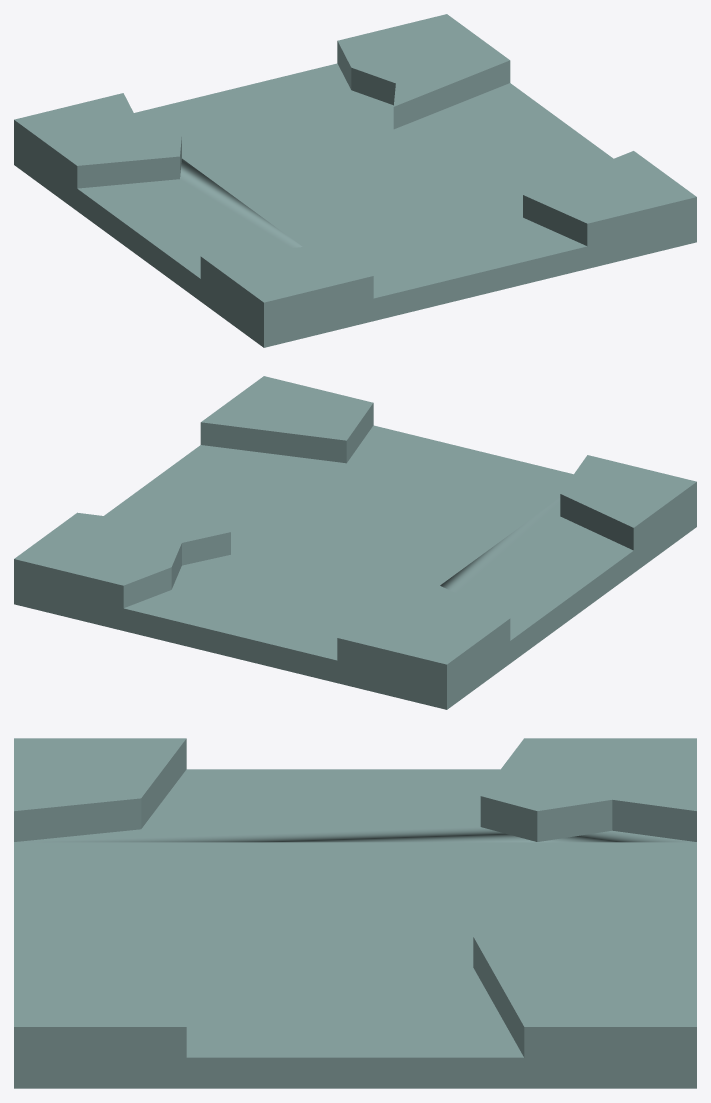
Rendered from naturePack_058.fbx.
The picture shows the model from 3 angles, top to bottom: view 1: azimuth 30°, elevation 25°; view 2: azimuth 150°, elevation 25°; view 3: azimuth 270°, elevation 25°; orthographic projection. The views are drawn at different scales.
Visible parts, largest first — view 1: naturePack_058; view 2: naturePack_058; view 3: naturePack_058.
Boxes of the visible parts, x1,y1,x2,y2 form: naturePack_058: (14,14,696,347); naturePack_058: (14,376,696,709); naturePack_058: (14,738,696,1088).
Bounding box in the file's own units: 300 × 30 × 300.
